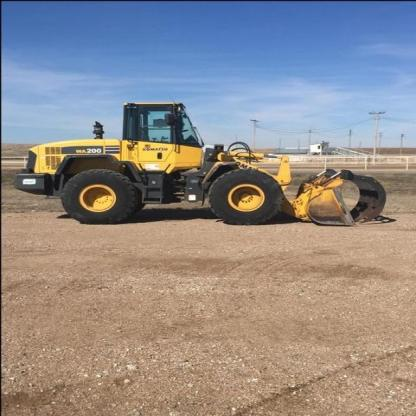bull_dozer/loader/grader: (10, 89, 408, 232)
